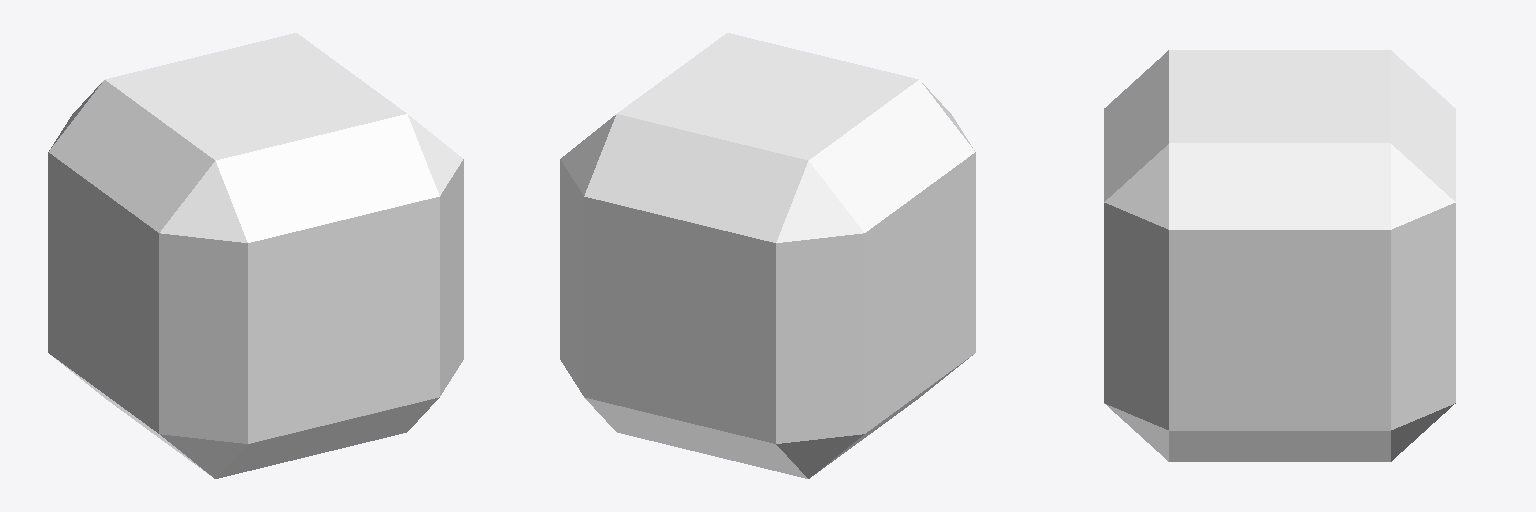
3 views of the same model, side by side, from view 1: azimuth 30°, elevation 25°; view 2: azimuth 150°, elevation 25°; view 3: azimuth 270°, elevation 25° (orthographic).
Visible parts, largest first — view 1: Cube; view 2: Cube; view 3: Cube.
Part boxes in pixels (bbox=[...]): Cube: bbox=[48, 33, 463, 478]; Cube: bbox=[560, 33, 975, 478]; Cube: bbox=[1104, 50, 1455, 461].
Size of the model in its own units: 1.74 by 1.74 by 1.74.
Materials: 1 (1 with a texture image).